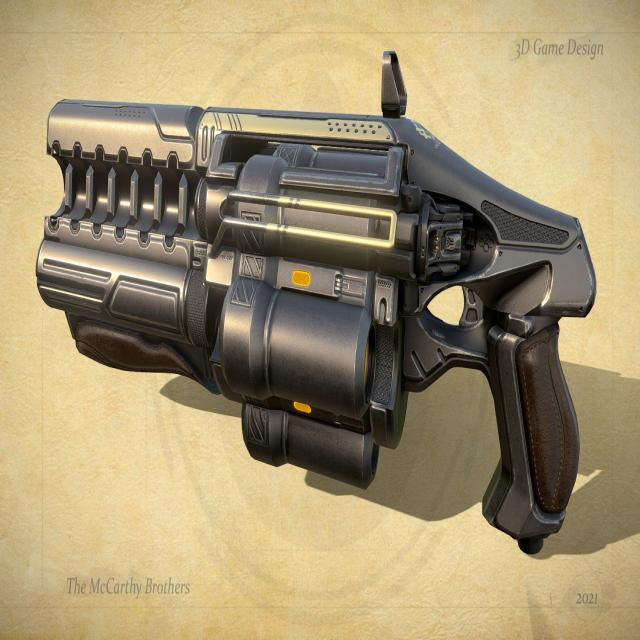Weapon: (37, 58, 594, 561)
